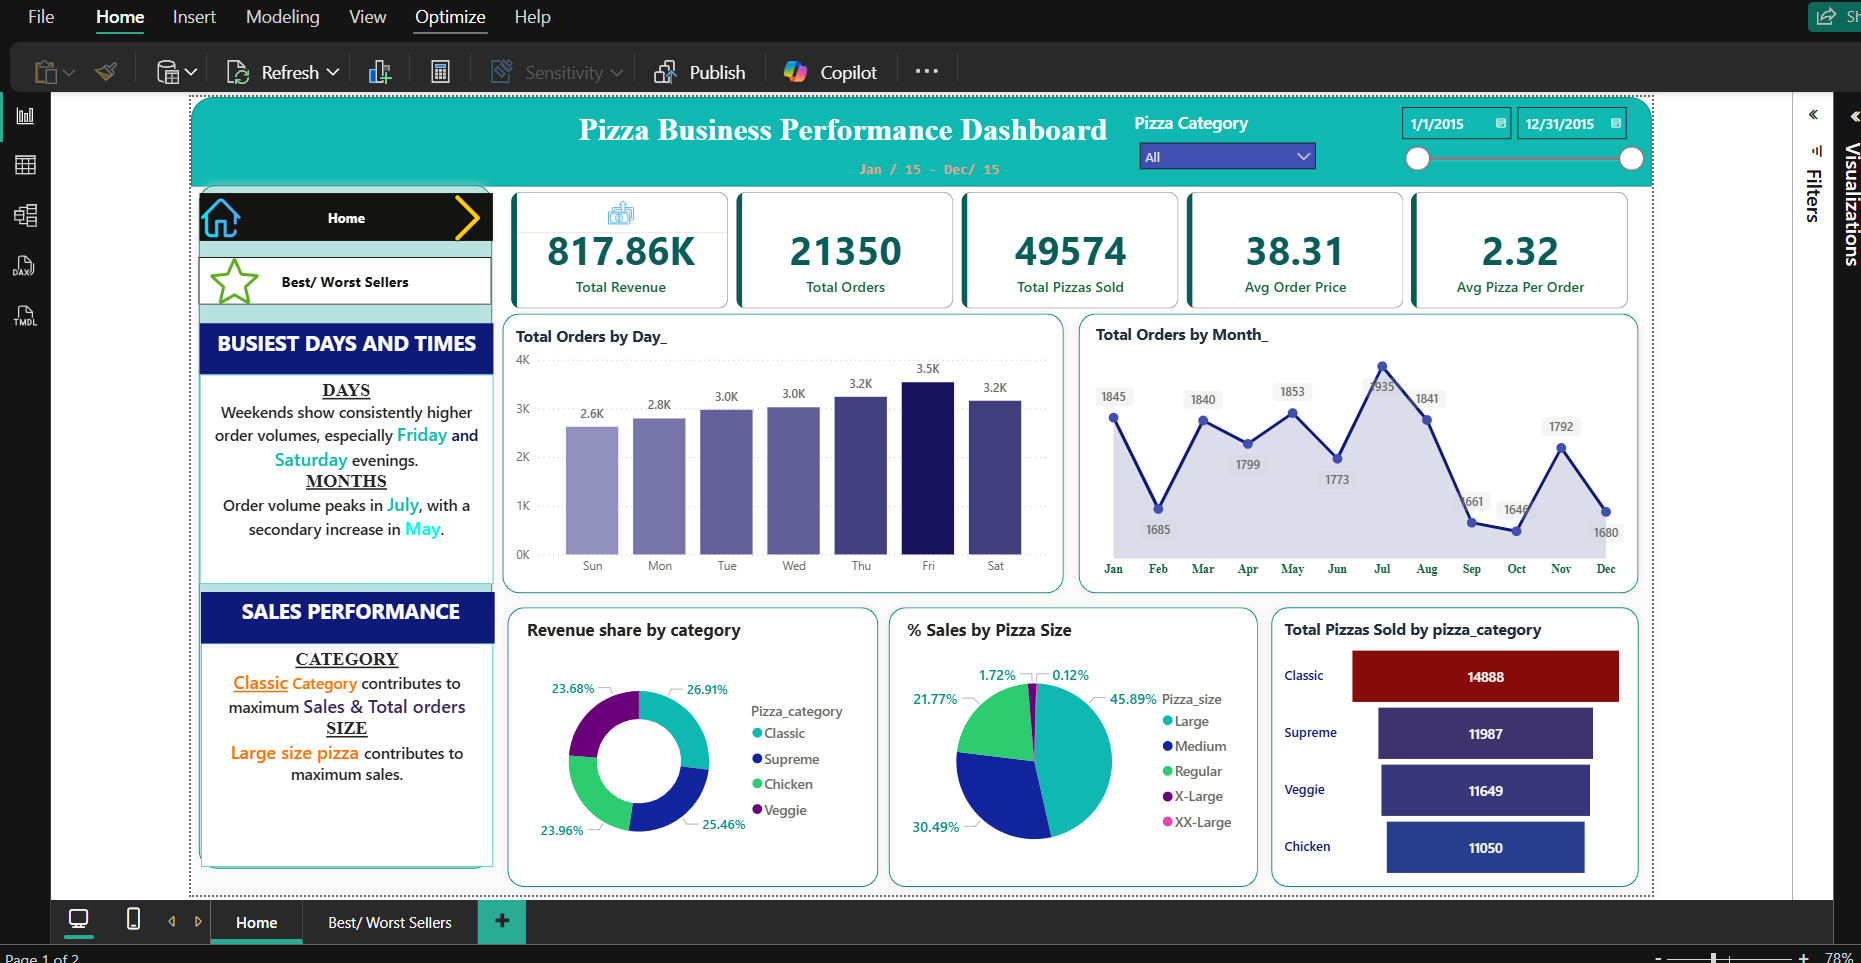

What the dashboard file says about the page in this screenshot:
{"tool":"powerbi","page":{"name":"Home","canvas":[1500,820],"ordinal":0},"visuals":[{"type":"cardVisual","fields":{"Data":["pizza_sales.Total Revenue","pizza_sales.Total Orders","pizza_sales.Total Pizzas Sold","pizza_sales.Avg Order Price","pizza_sales.Avg Pizza Per Order"]},"box":[311.7,82.2,1183,150.2],"z":0},{"type":"shape","box":[0,0,1500.3,92.1],"z":1000},{"type":"textbox","box":[319,10,634.7,85],"z":2000},{"type":"textbox","box":[630.4,58.1,256.4,41.1],"z":3000},{"type":"shape","box":[311.7,213.9,592.2,303.2],"z":4000},{"type":"clusteredColumnChart","fields":{"Y":["pizza_sales.Total Orders"],"Category":["pizza_sales.Day_"]},"box":[328.7,233.8,558.2,266.3],"z":5000},{"type":"shape","box":[903.9,213.9,590.8,303.2],"z":6000},{"type":"areaChart","fields":{"Category":["pizza_sales.Month_"],"Y":["pizza_sales.Total Orders"]},"box":[923.7,232.3,552.5,267.8],"z":7000},{"type":"shape","box":[316.7,516.7,396.7,303.3],"z":8000},{"type":"shape","box":[708.3,516.7,395,303.3],"z":9000},{"type":"shape","box":[1101.7,516.7,393.3,303.3],"z":10000},{"type":"donutChart","title":"Revenue share by category","fields":{"Y":["Sum(pizza_sales.total_price)"],"Category":["pizza_sales.pizza_category"]},"box":[340,535,355,271.7],"z":11000},{"type":"pieChart","title":"% Sales by Pizza Size","fields":{"Y":["Sum(pizza_sales.total_price)"],"Category":["pizza_sales.pizza_size"]},"box":[730.1,535.5,355.4,271.8],"z":12000},{"type":"funnel","fields":{"Y":["pizza_sales.Total Pizzas Sold"],"Category":["pizza_sales.pizza_category"]},"box":[1117.6,535.5,358.6,271.8],"z":13000},{"type":"shape","box":[0,82.2,317.3,718.3],"z":14000},{"type":"textbox","box":[8.5,232.3,301.8,52.4],"z":15000},{"type":"textbox","box":[8.5,284.8,301.8,215.3],"z":16000},{"type":"textbox","box":[9.9,561,300.3,229.5],"z":17000},{"type":"textbox","box":[9.9,508.6,301.8,52.4],"z":18000},{"type":"slicer","title":"Pizza Category","fields":{"Values":["pizza_sales.order_date"]},"box":[1231.1,0,269.2,85],"z":19000},{"type":"slicer","title":"Pizza Category","fields":{"Values":["pizza_sales.pizza_category"]},"box":[963.5,14.3,201.2,85],"z":20000},{"type":"pageNavigator","box":[8.5,99.2,301.8,49.6],"z":21000},{"type":"pageNavigator","box":[7.1,164.3,301.8,49.6],"z":22000},{"type":"image","box":[9.9,100.6,41.1,48.2],"z":23000},{"type":"image","box":[259.3,100.6,49.6,48.2],"z":24000},{"type":"image","box":[9.9,164.3,69.4,49.6],"z":25000}]}

Visuals, with their boxes on the page's 1500x820 design canvas (x1, y1, x2, y2). These are canvas units, not pixel positions in the 1861x963 screenshot, which may show the page scaled, cropped or inside an application window:
cardVisual - pizza_sales.Total Revenue x pizza_sales.Total Orders: [x1=312, y1=82, x2=1495, y2=232]
shape: [x1=0, y1=0, x2=1500, y2=92]
textbox: [x1=319, y1=10, x2=954, y2=95]
textbox: [x1=630, y1=58, x2=887, y2=99]
shape: [x1=312, y1=214, x2=904, y2=517]
clusteredColumnChart - pizza_sales.Total Orders x pizza_sales.Day_: [x1=329, y1=234, x2=887, y2=500]
shape: [x1=904, y1=214, x2=1495, y2=517]
areaChart - pizza_sales.Month_ x pizza_sales.Total Orders: [x1=924, y1=232, x2=1476, y2=500]
shape: [x1=317, y1=517, x2=713, y2=820]
shape: [x1=708, y1=517, x2=1103, y2=820]
shape: [x1=1102, y1=517, x2=1495, y2=820]
"Revenue share by category" donutChart: [x1=340, y1=535, x2=695, y2=807]
"% Sales by Pizza Size" pieChart: [x1=730, y1=536, x2=1086, y2=807]
funnel - pizza_sales.Total Pizzas Sold x pizza_sales.pizza_category: [x1=1118, y1=536, x2=1476, y2=807]
shape: [x1=0, y1=82, x2=317, y2=800]
textbox: [x1=8, y1=232, x2=310, y2=285]
textbox: [x1=8, y1=285, x2=310, y2=500]
textbox: [x1=10, y1=561, x2=310, y2=790]
textbox: [x1=10, y1=509, x2=312, y2=561]
"Pizza Category" slicer: [x1=1231, y1=0, x2=1500, y2=85]
"Pizza Category" slicer: [x1=964, y1=14, x2=1165, y2=99]
pageNavigator: [x1=8, y1=99, x2=310, y2=149]
pageNavigator: [x1=7, y1=164, x2=309, y2=214]
image: [x1=10, y1=101, x2=51, y2=149]
image: [x1=259, y1=101, x2=309, y2=149]
image: [x1=10, y1=164, x2=79, y2=214]
